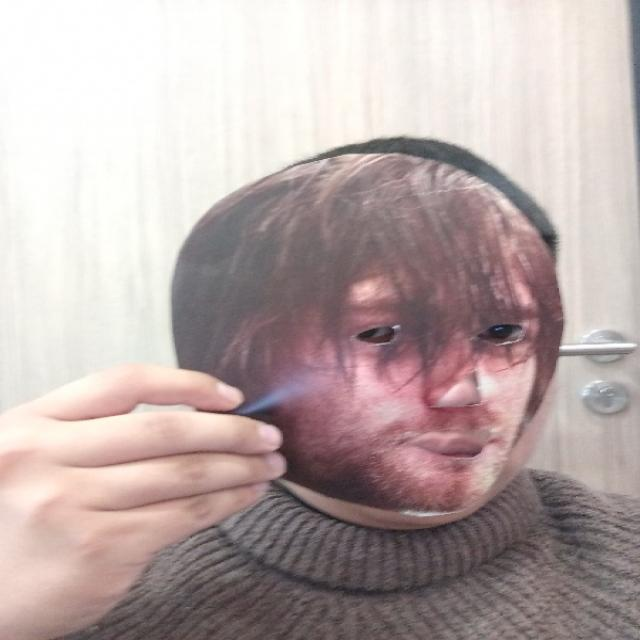mask: (148, 152, 567, 514)
